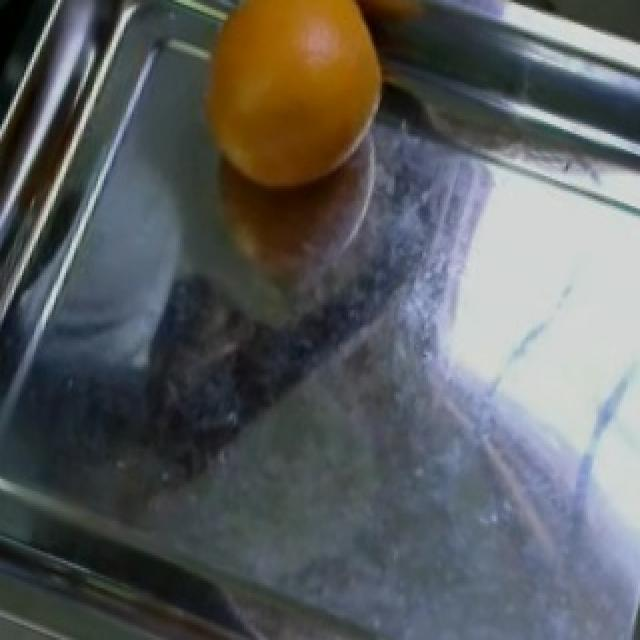Fruit: (174, 0, 410, 216)
